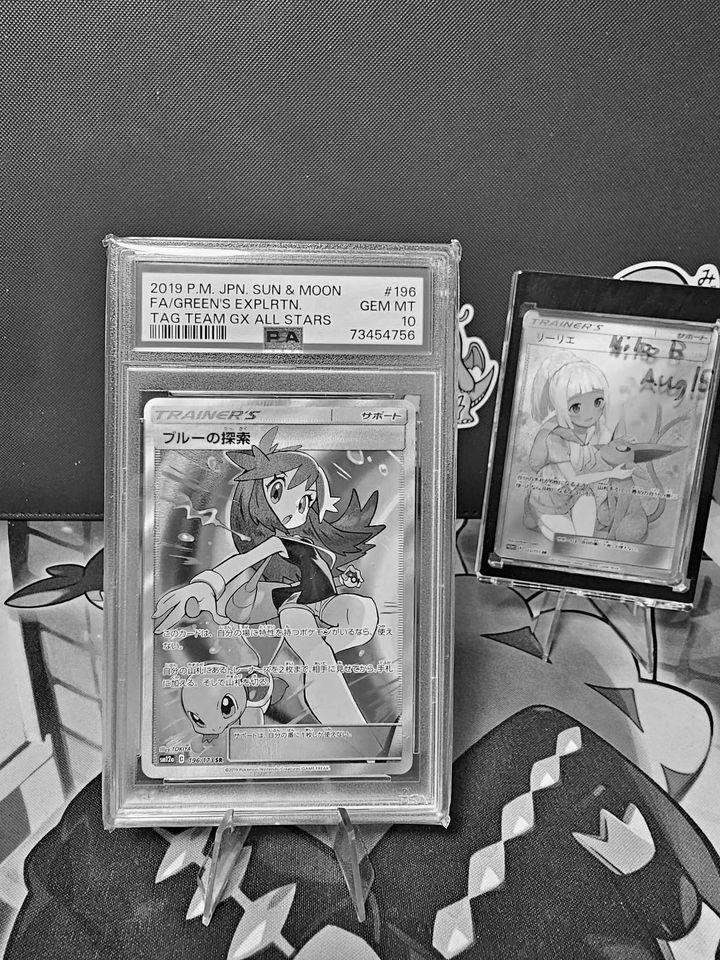card: (139, 396, 418, 780), (494, 307, 719, 579)
